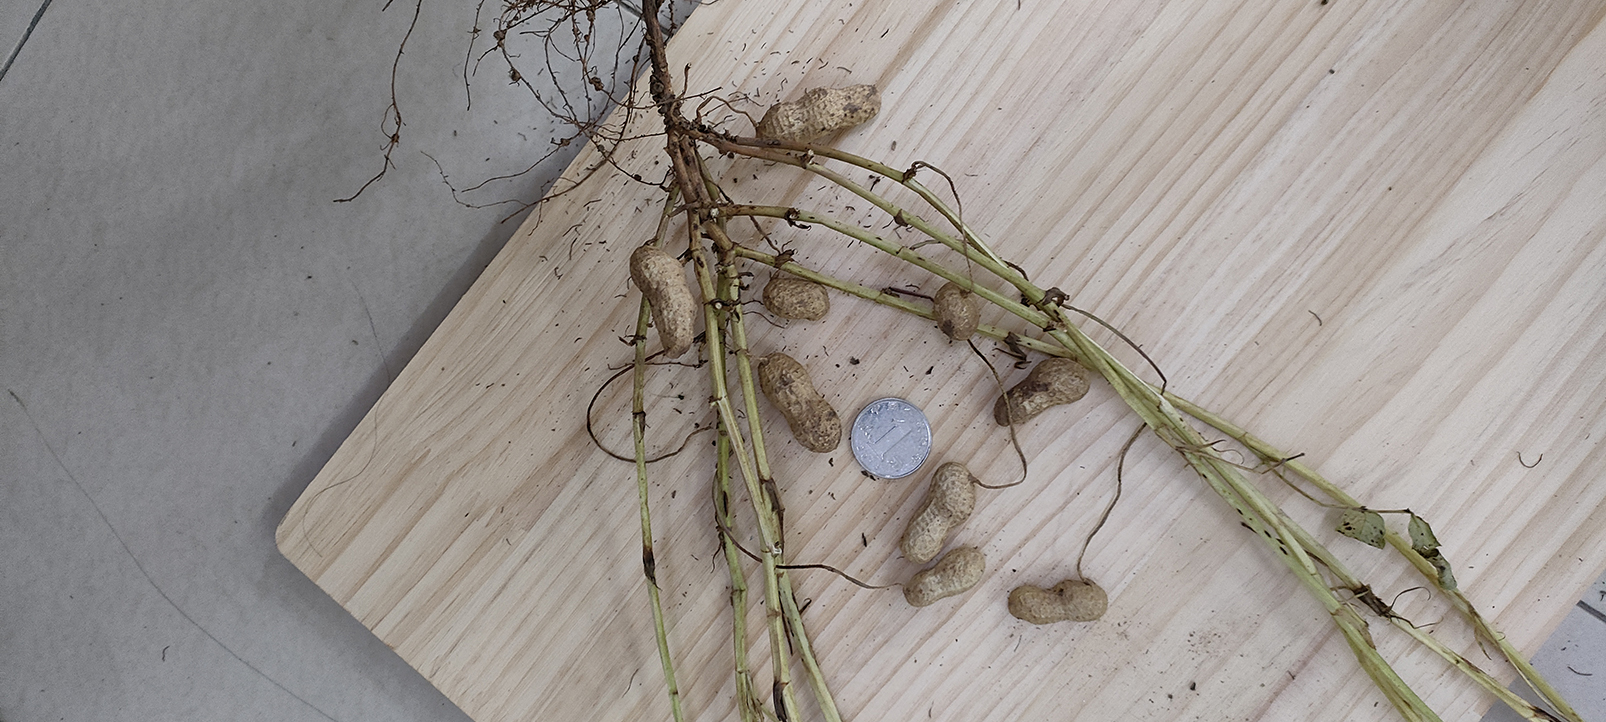h: (761, 350, 842, 453), (902, 461, 977, 567), (756, 85, 881, 148), (630, 243, 699, 356), (1008, 579, 1109, 625), (904, 549, 984, 606), (762, 279, 831, 321), (935, 281, 980, 342)
l: (994, 357, 1092, 426)
